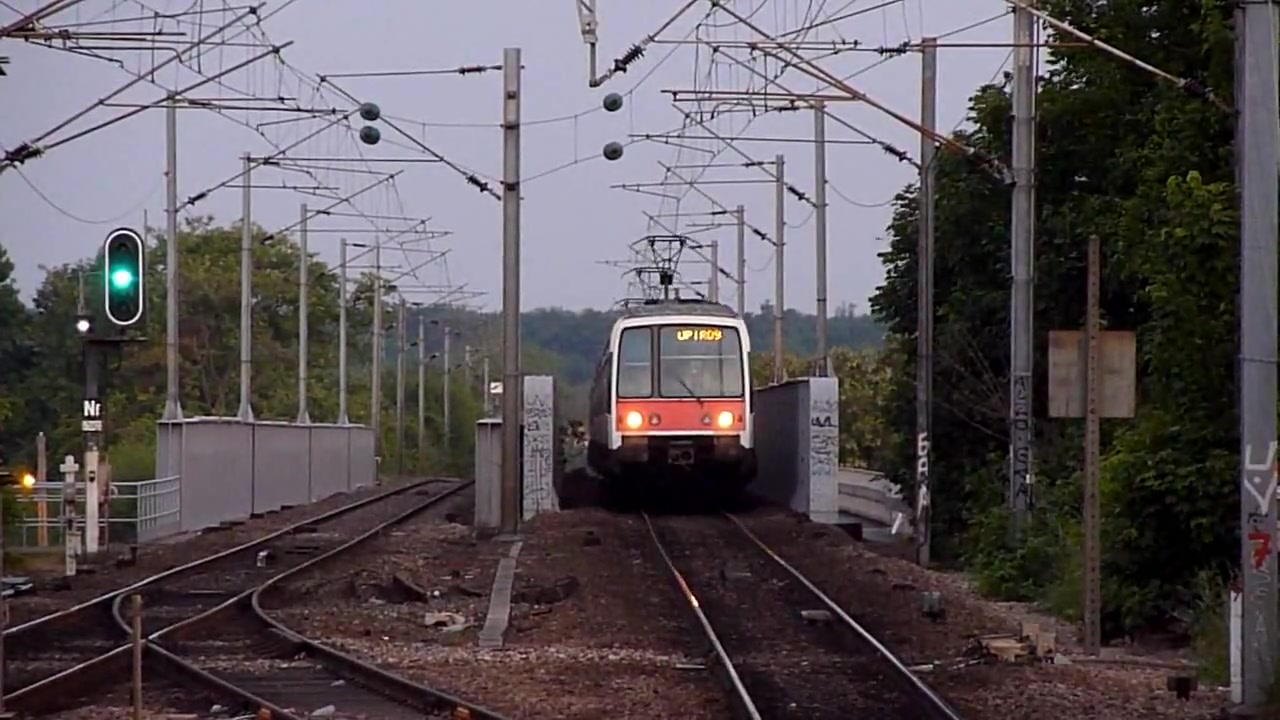train: (581, 303, 764, 493)
